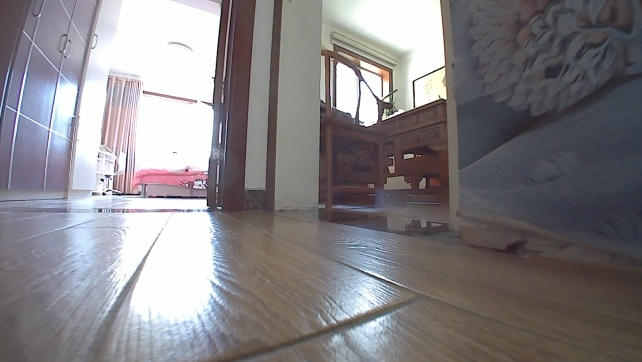bed1: (131, 165, 208, 200)
